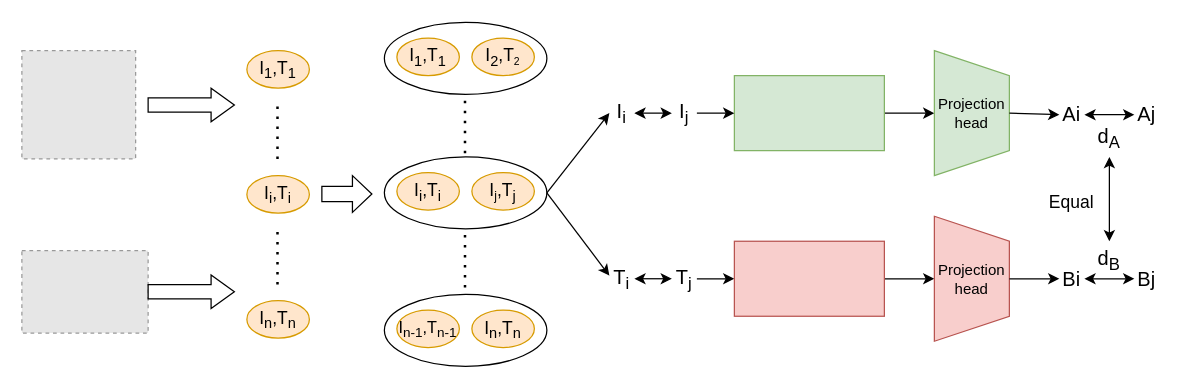
Some shapes in this 1181 by 388 pixel diagram are drawn without their labels. Grey dashed boxes stand in for pictures. Each missing label, with the box of its shape:
Image Encoder: (733, 74, 884, 151)
Text Encoder: (733, 240, 884, 316)
